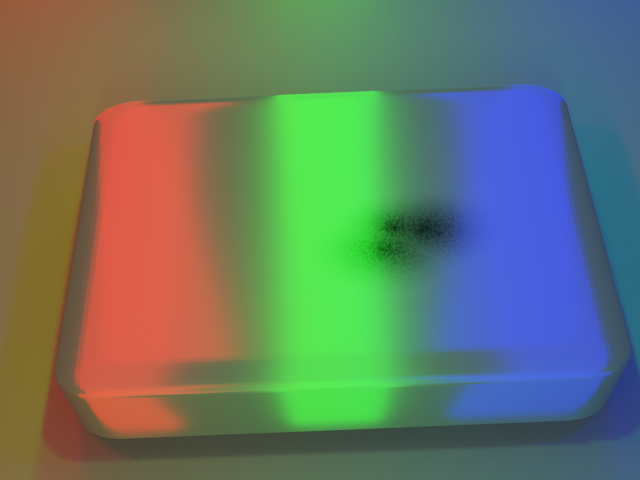stain: (290, 166, 551, 312)
